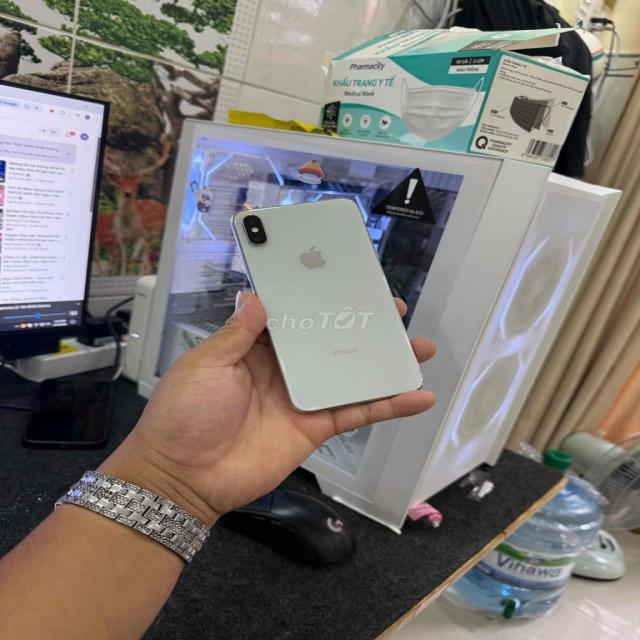gen_x_xs: (199, 192, 445, 415)
